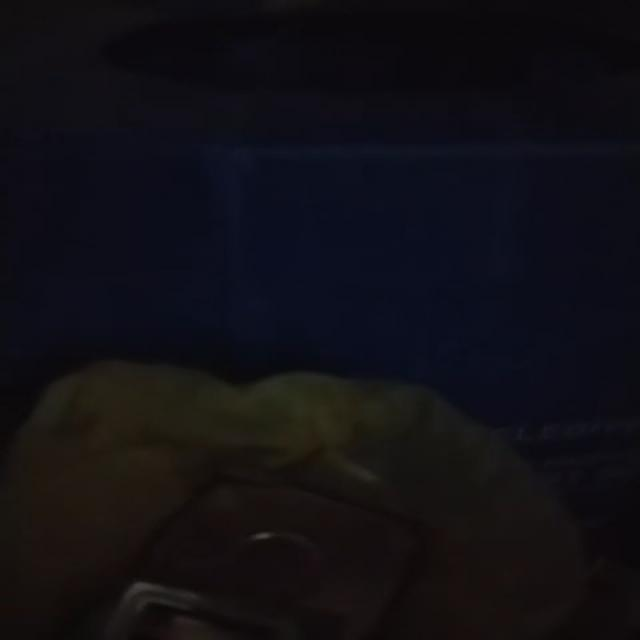bin: (2, 0, 640, 640)
metal: (109, 480, 424, 640)
